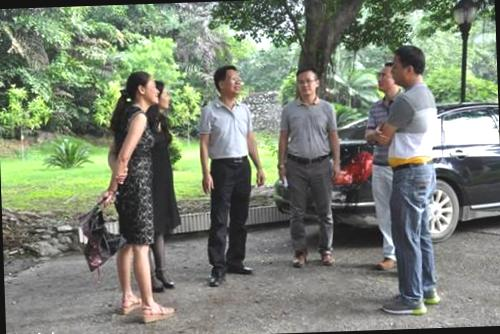no_helmet: (388, 42, 428, 91), (210, 60, 246, 101), (124, 67, 158, 107), (292, 61, 324, 102), (374, 59, 398, 96), (153, 77, 170, 112)
